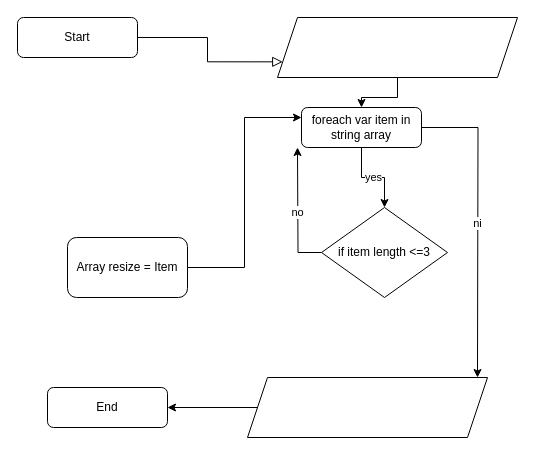
Image size: 535x455. Some labels were removed from this diagram. The centre of each missing label's shape, as x and y in pixels:
"consoleWriteline result array" belongs at point 367,407.
"string array = new string [text1 .. text3 result array = new string" belongs at point 397,47.
